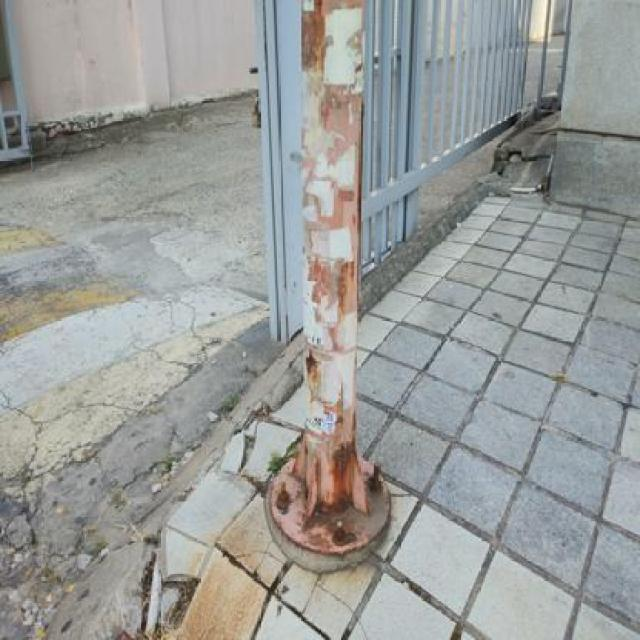pole: (263, 0, 403, 577)
